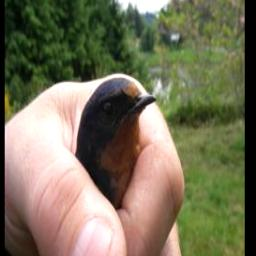Swallow: (73, 73, 158, 211)
